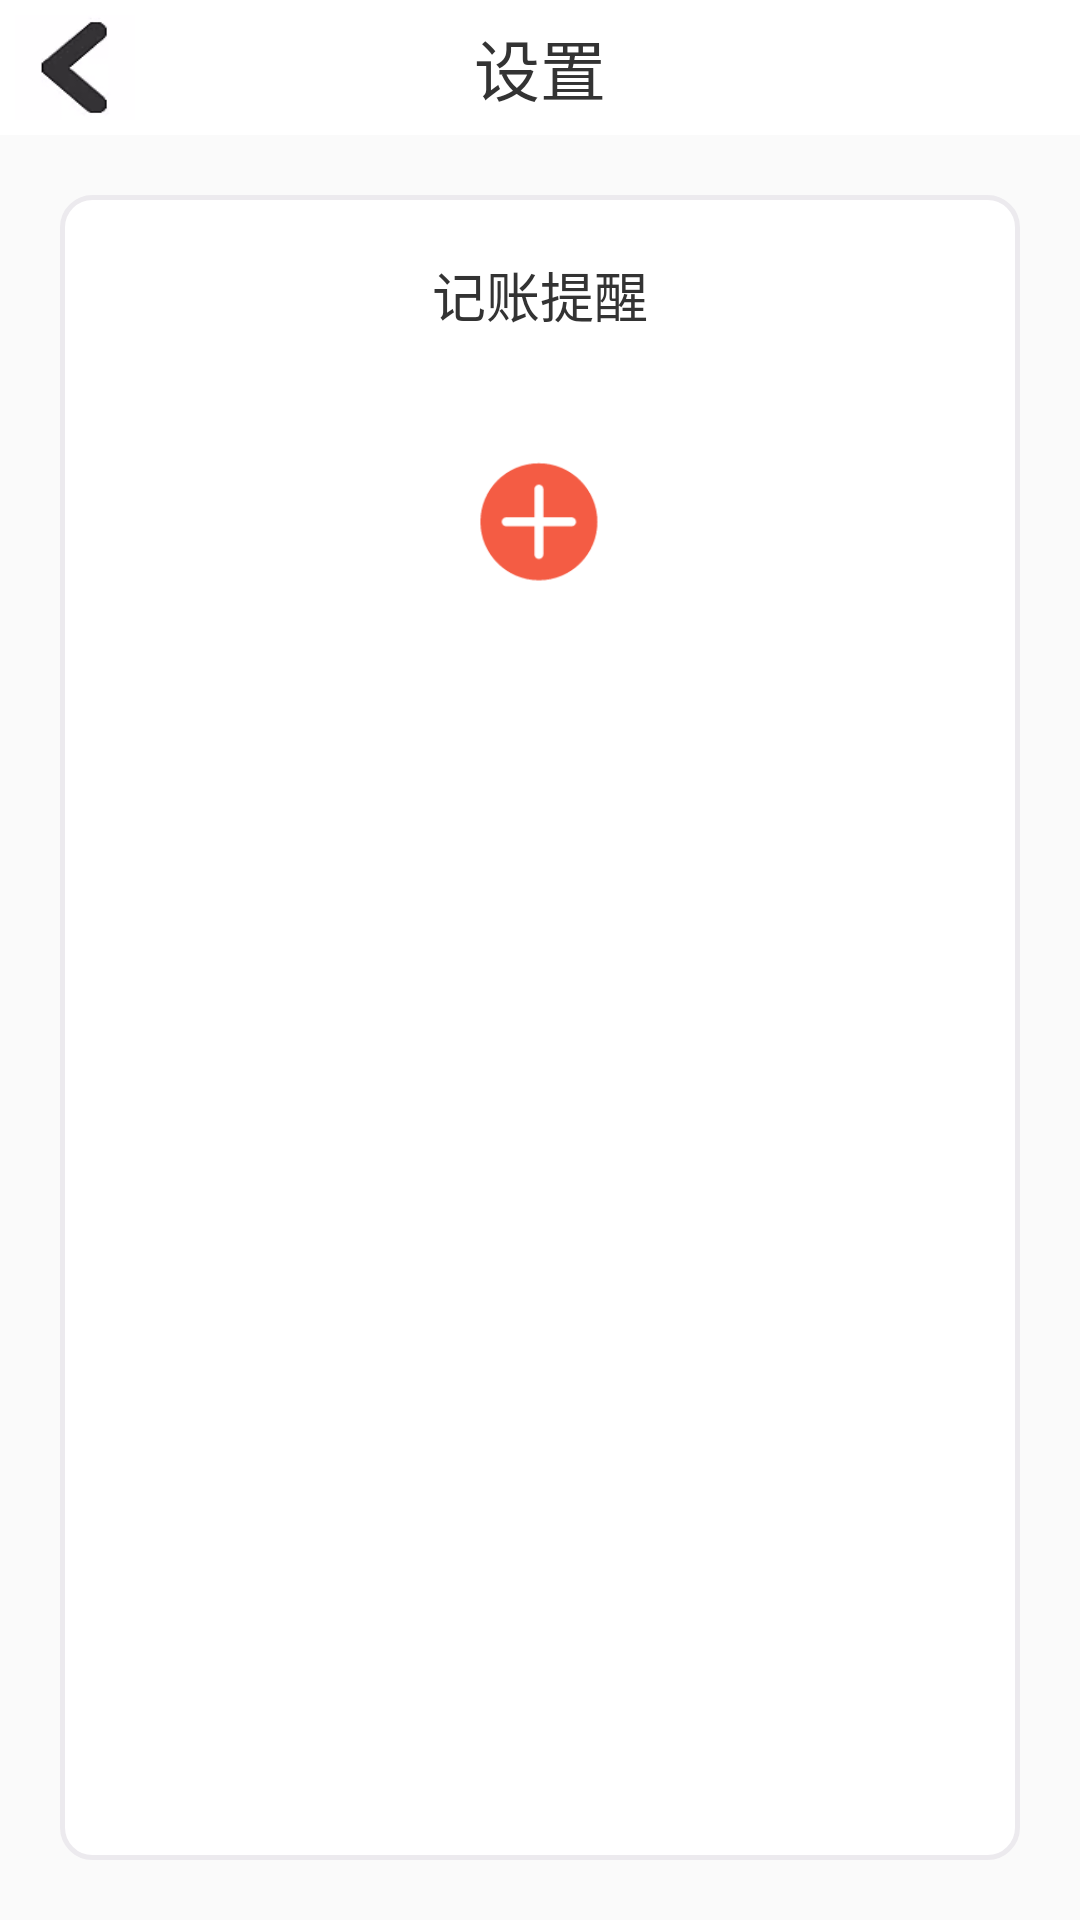

Screen size 1080px x 1920px. Icon name, then its center in pixels as (x,y):
add: (539,522)
back: (74,67)
